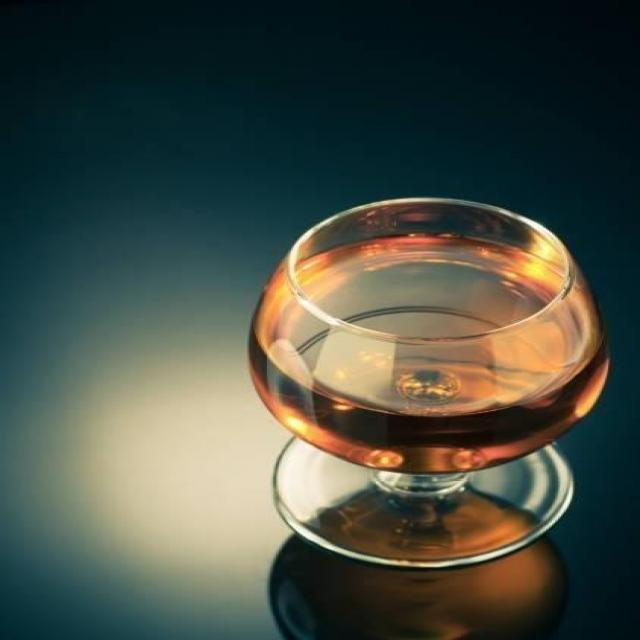glass-wine: (246, 195, 610, 568)
